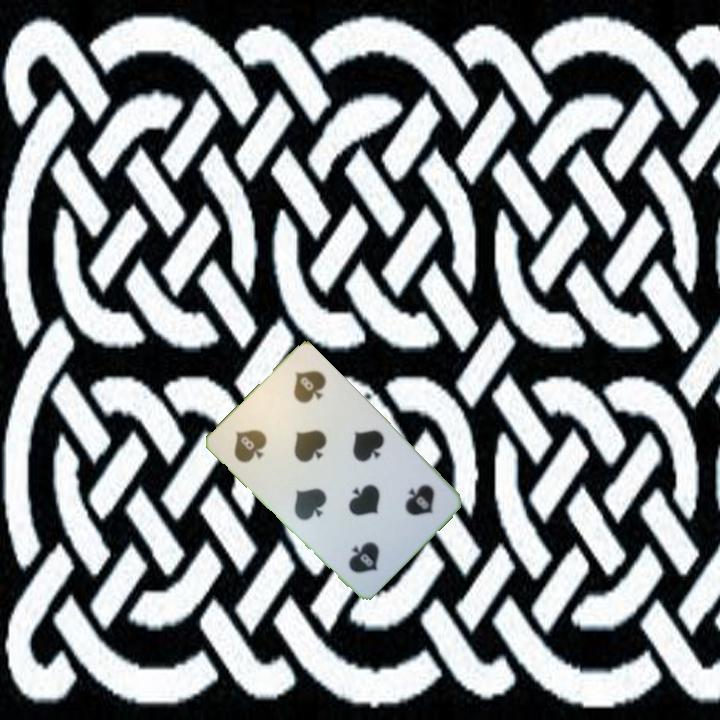s_8.png: (367, 460, 453, 546), (216, 396, 302, 482)
